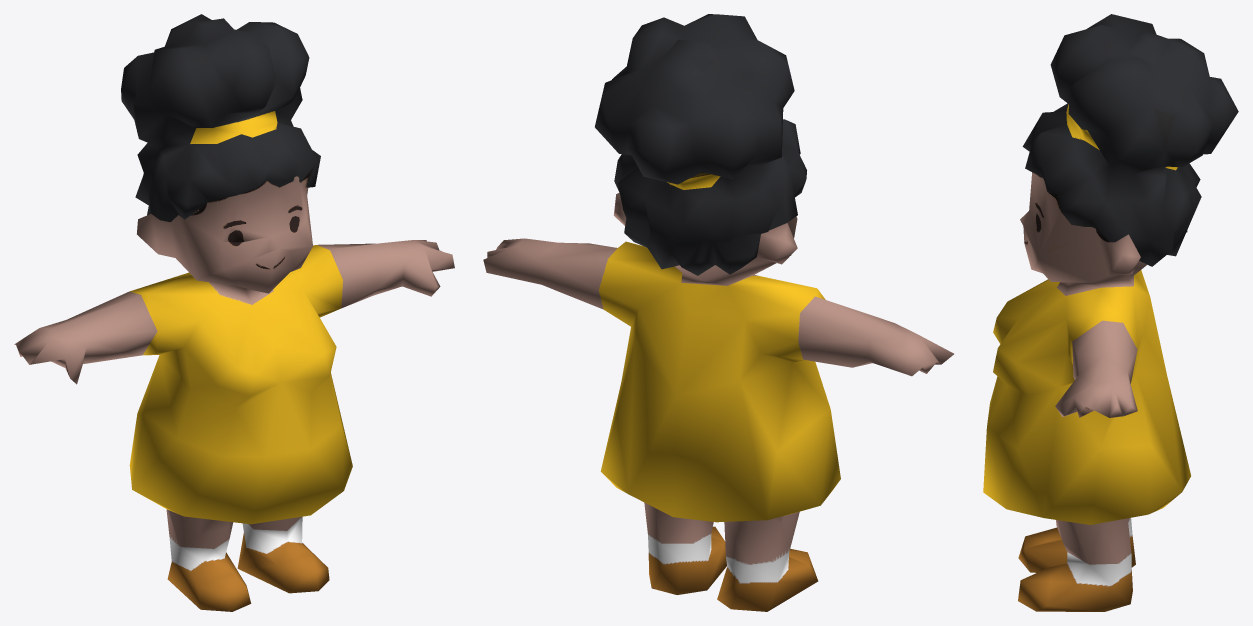
The model's file is friesladymodel.fbx.
3 renders of one model, left to right at view 1: azimuth 30°, elevation 25°; view 2: azimuth 150°, elevation 25°; view 3: azimuth 270°, elevation 25°, orthographic. The views are drawn at different scales.
Visible parts, largest first — view 1: node_low; view 2: node_low; view 3: node_low.
Part boxes in pixels (box(x1,y1,x2,y2)): node_low: box(14, 14, 454, 611); node_low: box(483, 14, 953, 611); node_low: box(983, 14, 1238, 611).
Bounding box in the file's own units: 93.23 × 47.5 × 114.
Materials: 1 (1 with a texture image).
